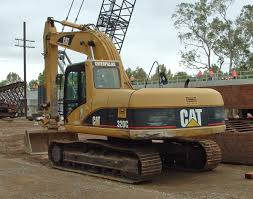excavator: (23, 16, 226, 184)
